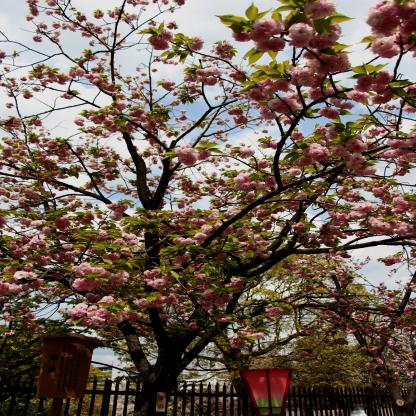YaeSakura: (0, 0, 416, 385), (220, 252, 390, 385), (339, 244, 416, 387), (0, 305, 66, 385)
